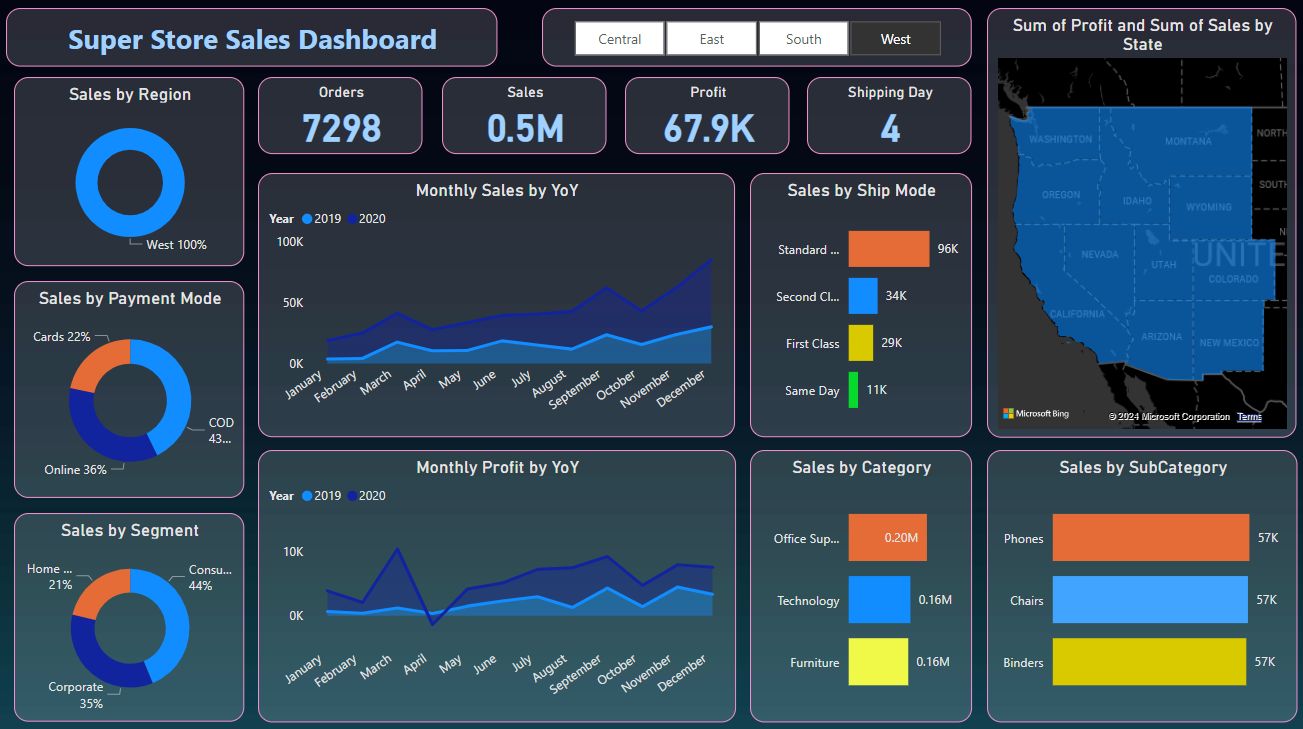

What the dashboard file says about the page in this screenshot:
{"tool":"powerbi","page":{"name":"Dasgboard 1","canvas":[1280,720],"ordinal":0},"visuals":[{"type":"clusteredBarChart","title":" Sales by Category","fields":{"Y":["Sum(SuperStore_Sales_Dataset (2).Sales)"],"Category":["SuperStore_Sales_Dataset (2).Category"]},"box":[733.3,440.6,215.6,264.6],"z":0},{"type":"clusteredBarChart","title":" Sales by SubCategory","fields":{"Category":["SuperStore_Sales_Dataset (2).Sub-Category"],"Y":["Sum(SuperStore_Sales_Dataset (2).Sales)"]},"box":[963.5,440.6,302.1,264.6],"z":1000},{"type":"clusteredBarChart","title":" Sales by Ship Mode","fields":{"Y":["Sum(SuperStore_Sales_Dataset (2).Sales)"],"Category":["SuperStore_Sales_Dataset (2).Ship Mode"]},"box":[733.3,170.8,215.6,257.3],"z":2000},{"type":"stackedAreaChart","title":"Monthly Sales by YoY","fields":{"Y":["Sum(SuperStore_Sales_Dataset (2).Sales)"],"Category":["SuperStore_Sales_Dataset (2).Order Date.Variation.Date Hierarchy.Month","SuperStore_Sales_Dataset (2).Order Date.Variation.Date Hierarchy.Day"],"Series":["SuperStore_Sales_Dataset (2).Order Date.Variation.Date Hierarchy.Year"]},"box":[255.2,170.8,463.5,257.3],"z":3000},{"type":"stackedAreaChart","title":"Monthly Profit by YoY","fields":{"Category":["SuperStore_Sales_Dataset (2).Order Date.Variation.Date Hierarchy.Month","SuperStore_Sales_Dataset (2).Order Date.Variation.Date Hierarchy.Day"],"Series":["SuperStore_Sales_Dataset (2).Order Date.Variation.Date Hierarchy.Year"],"Y":["Sum(SuperStore_Sales_Dataset (2).Profit)"]},"box":[255.2,440.6,464.6,264.6],"z":4000},{"type":"donutChart","title":"Sales by Segment","fields":{"Category":["SuperStore_Sales_Dataset (2).Segment"],"Y":["Sum(SuperStore_Sales_Dataset (2).Sales)"]},"box":[17.7,502.1,224,203.1],"z":5000},{"type":"donutChart","title":" Sales by Payment Mode","fields":{"Y":["Sum(SuperStore_Sales_Dataset (2).Sales)"],"Category":["SuperStore_Sales_Dataset (2).Payment Mode"]},"box":[17.7,276,224,211.5],"z":6000},{"type":"slicer","fields":{"Values":["SuperStore_Sales_Dataset (2).Region"]},"box":[531.2,10.4,417.7,57.3],"z":7000},{"type":"textbox","box":[9.4,10.4,478.1,57.3],"z":8000},{"type":"filledMap","fields":{"Category":["SuperStore_Sales_Dataset (2).State"]},"box":[963.5,10.4,301,417.7],"z":9000},{"type":"card","title":"Sales","fields":{"Values":["Sum(SuperStore_Sales_Dataset (2).Sales)"]},"box":[433.3,78.1,160.4,75],"z":10000},{"type":"card","title":"Shipping Day","fields":{"Values":["Avg(SuperStore_Sales_Dataset (2).AvgDelivey)"]},"box":[788.5,78.1,160.4,75],"z":11000},{"type":"card","title":"Profit","fields":{"Values":["Sum(SuperStore_Sales_Dataset (2).Profit)"]},"box":[611.5,78.1,160.4,75],"z":12000},{"type":"card","title":"Orders","fields":{"Values":["Sum(SuperStore_Sales_Dataset (2).Quantity)"]},"box":[255.2,78.1,160.4,75],"z":13000},{"type":"actionButton","box":[0,0,100,40],"z":14000},{"type":"donutChart","title":"Sales by Region","fields":{"Y":["Sum(SuperStore_Sales_Dataset (2).Sales)"],"Category":["SuperStore_Sales_Dataset (2).Region"]},"box":[17.7,78.1,224,184.4],"z":15000}]}

Visuals, with their boxes in screenshot pixels (x1, y1, x2, y2), scaled from the page's 1280x720 canvas onto the 1303x729 screenshot:
" Sales by Category" clusteredBarChart: bbox=[746, 446, 966, 714]
" Sales by SubCategory" clusteredBarChart: bbox=[981, 446, 1288, 714]
" Sales by Ship Mode" clusteredBarChart: bbox=[746, 173, 966, 433]
"Monthly Sales by YoY" stackedAreaChart: bbox=[260, 173, 732, 433]
"Monthly Profit by YoY" stackedAreaChart: bbox=[260, 446, 733, 714]
"Sales by Segment" donutChart: bbox=[18, 508, 246, 714]
" Sales by Payment Mode" donutChart: bbox=[18, 279, 246, 494]
slicer - SuperStore_Sales_Dataset (2).Region: bbox=[541, 11, 966, 69]
textbox: bbox=[10, 11, 496, 69]
filledMap - SuperStore_Sales_Dataset (2).State: bbox=[981, 11, 1287, 433]
"Sales" card: bbox=[441, 79, 604, 155]
"Shipping Day" card: bbox=[803, 79, 966, 155]
"Profit" card: bbox=[622, 79, 786, 155]
"Orders" card: bbox=[260, 79, 423, 155]
actionButton: bbox=[0, 0, 102, 40]
"Sales by Region" donutChart: bbox=[18, 79, 246, 266]
